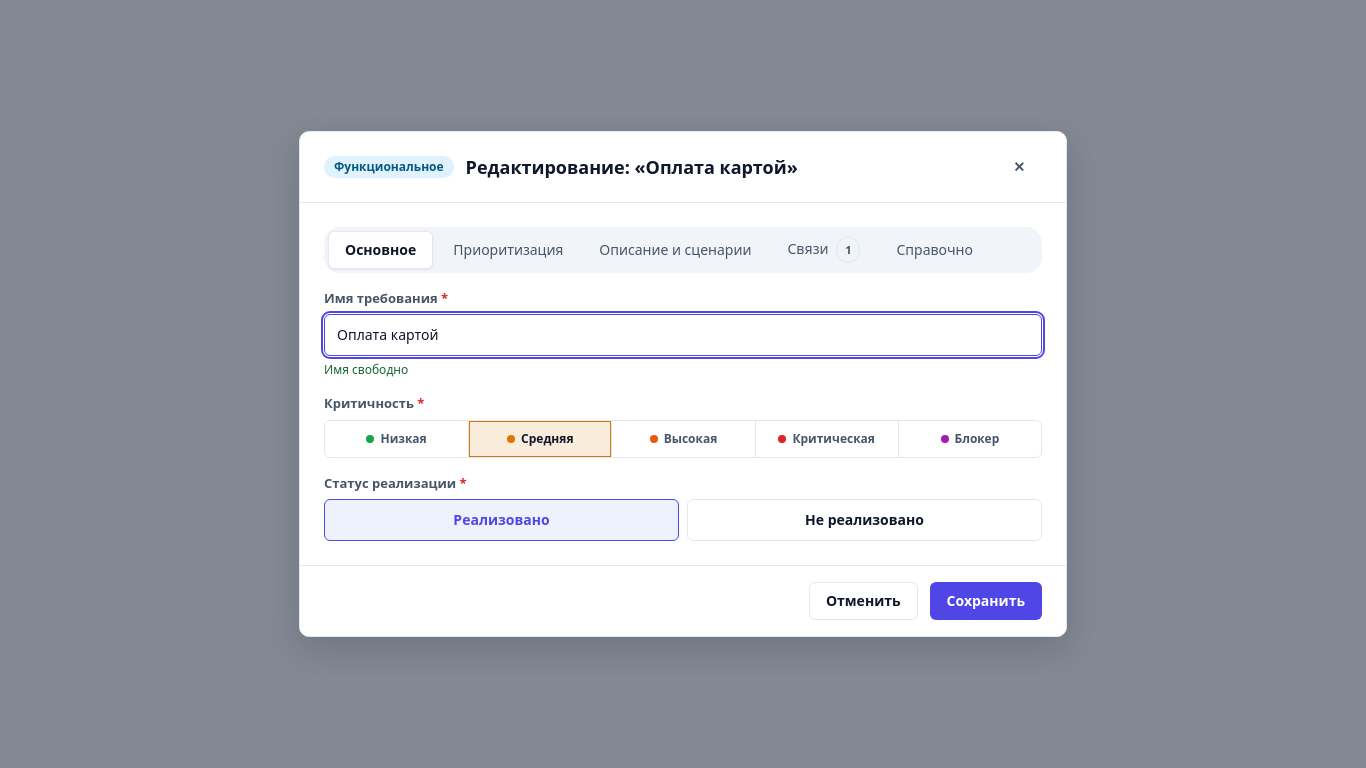
Test: RequirementModal — link sections & error branches (Task 12 · F-1) › link deletion failure: shows the API error and keeps the link in the list
Click the tab with test id "req-tab-links". click: (824, 250)
box: [772,231,876,269]
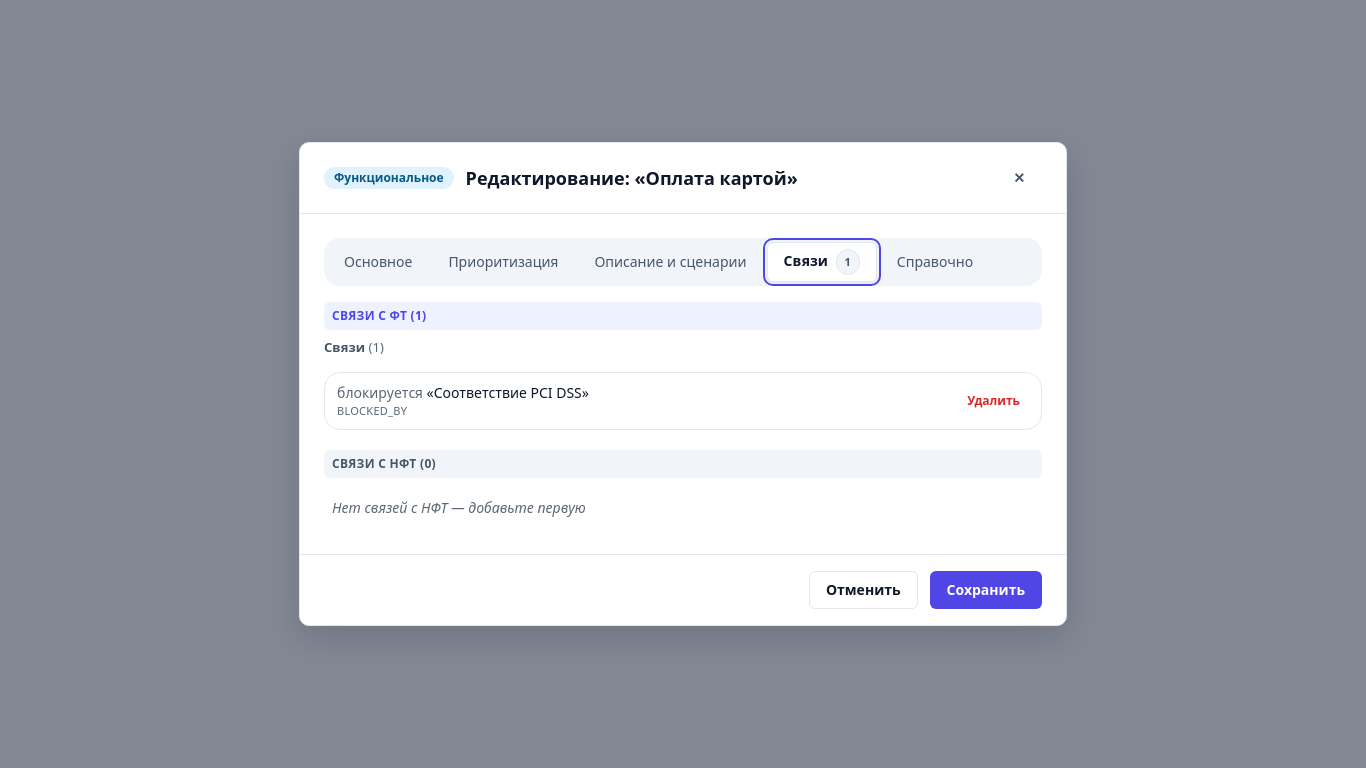
Click the button with test id "req-link-del-pci". click: (994, 401)
box: [958,388,1029,414]
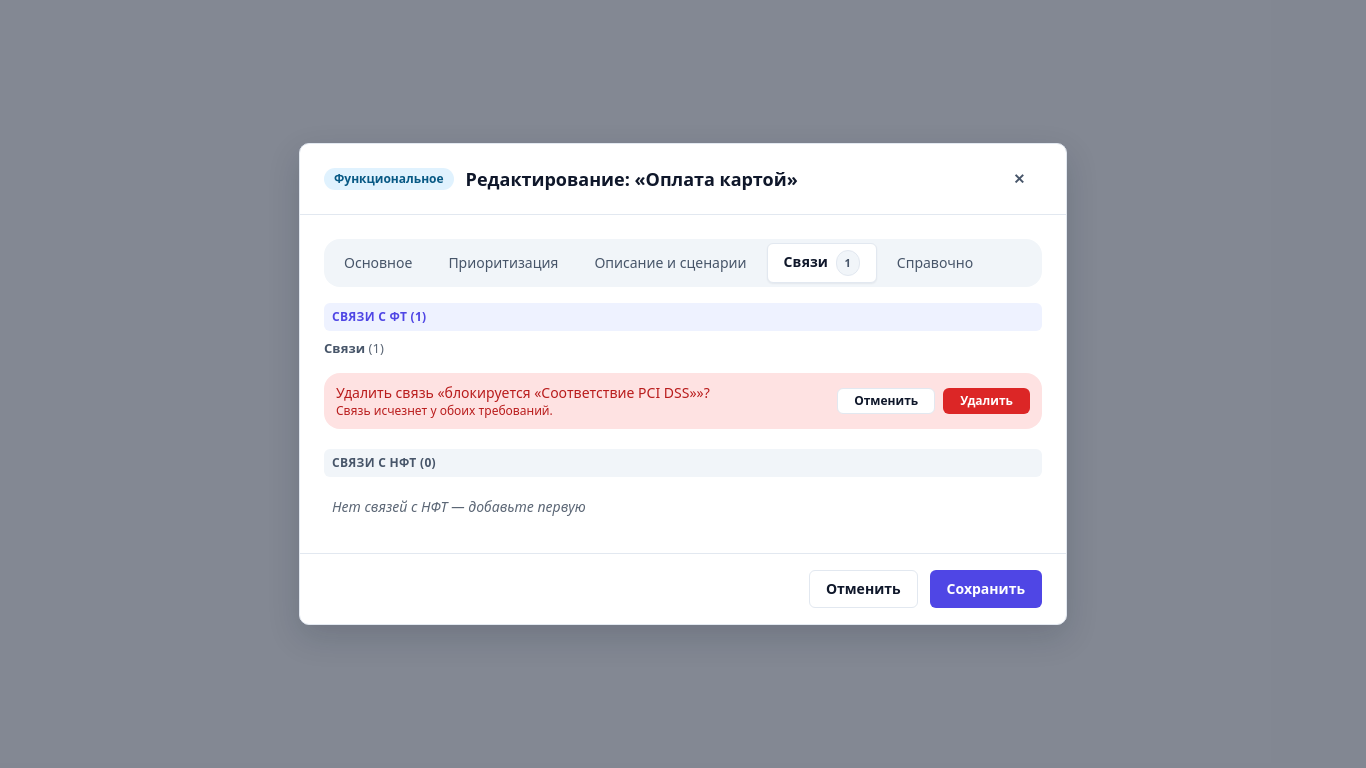
Click the button with test id "req-link-del-confirm". click: (987, 401)
box: [943,388,1030,414]
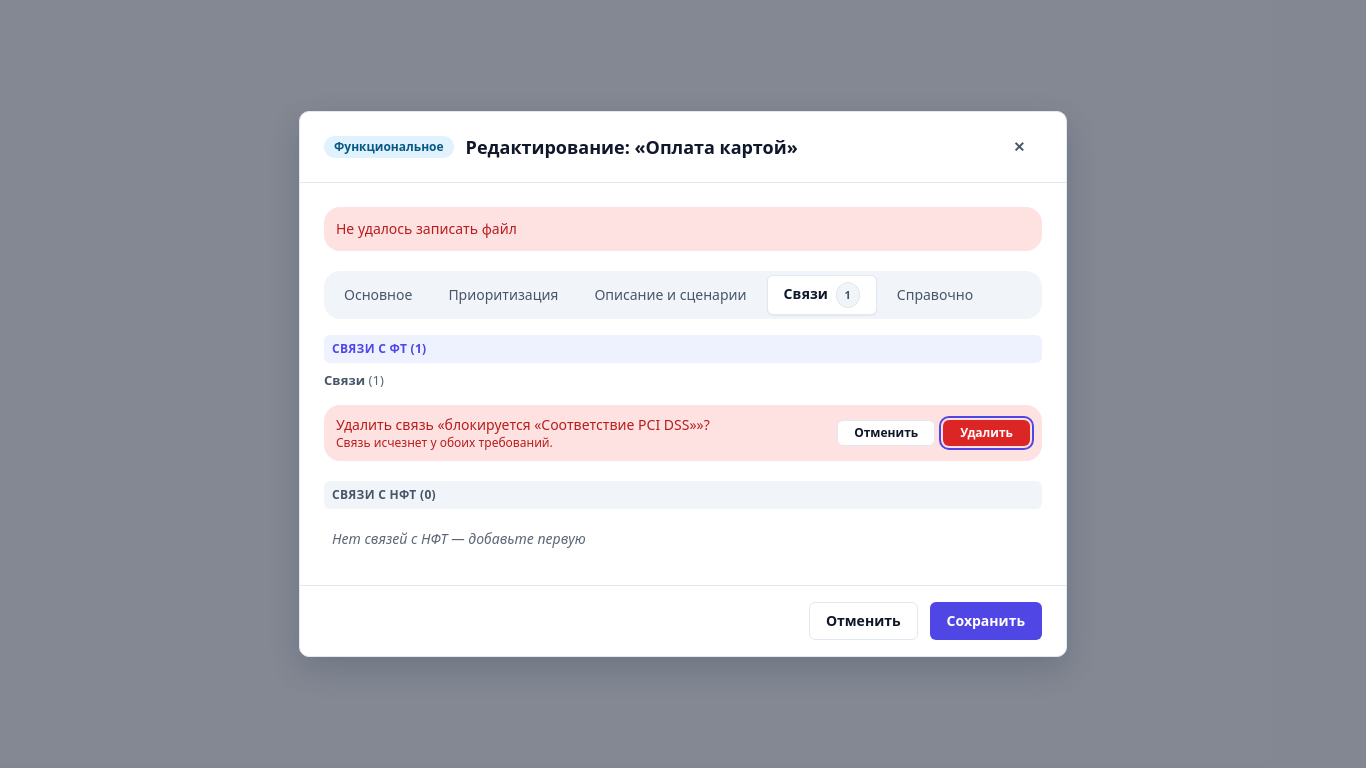
Result: the element with test id "req-link-pci" is shown at [324,405,1042,461]
Result: the message with test id "req-error" reads "Не удалось записать файл" at [336,219,517,238]
